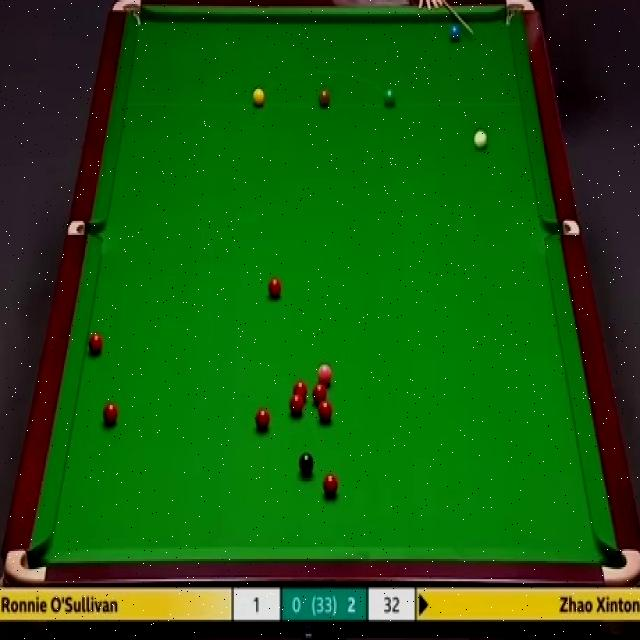black-ball: (298, 450, 316, 479)
blue-ball: (451, 18, 466, 43)
brown-ball: (318, 88, 331, 109)
green-ball: (383, 87, 397, 109)
pink-ball: (314, 361, 333, 386)
red-ball: (102, 400, 119, 428), (323, 474, 341, 498), (267, 275, 283, 300), (288, 394, 305, 417), (87, 331, 102, 356), (256, 407, 270, 432), (318, 399, 333, 422), (292, 380, 308, 400), (312, 383, 328, 403)
white-ball: (472, 125, 489, 154)
yellow-ball: (252, 86, 266, 108)
